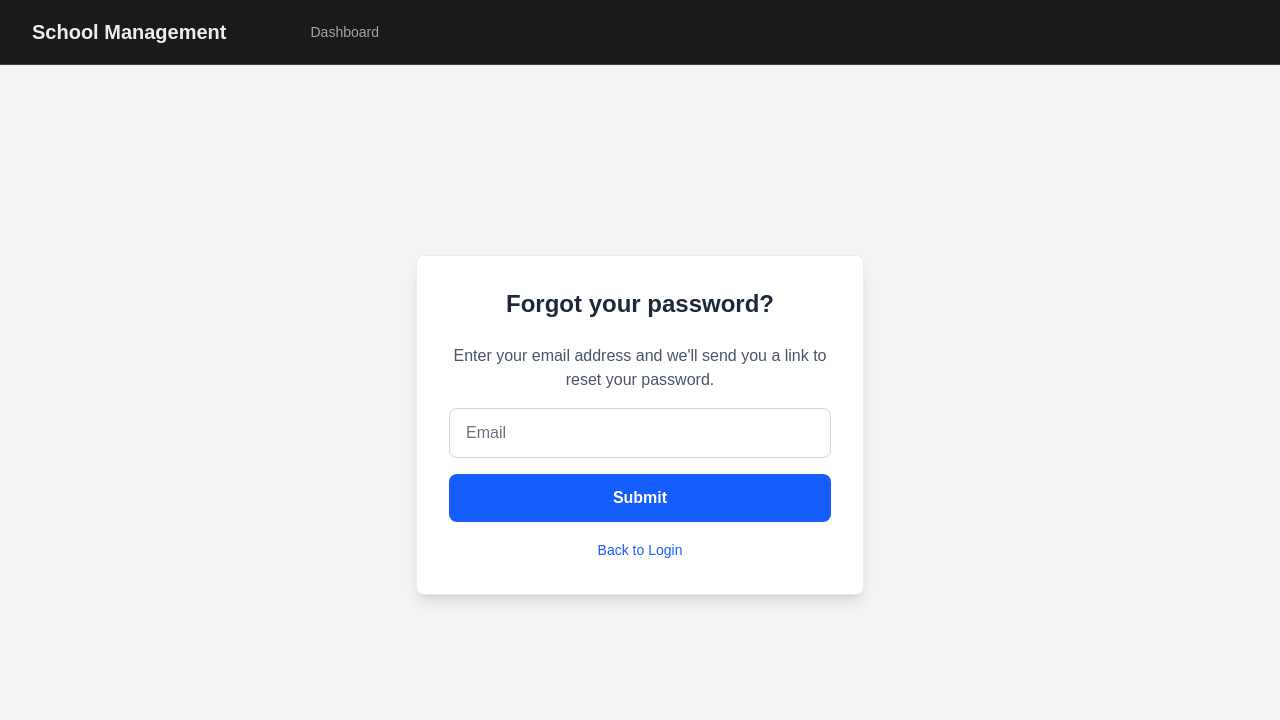
Test: Authentication E2E Tests › Forgot Password Page › should handle failed password reset request
Type "nonexistent@example.com" into the field with id "email" at (640, 433), box x1=449 y1=408 x2=831 y2=458
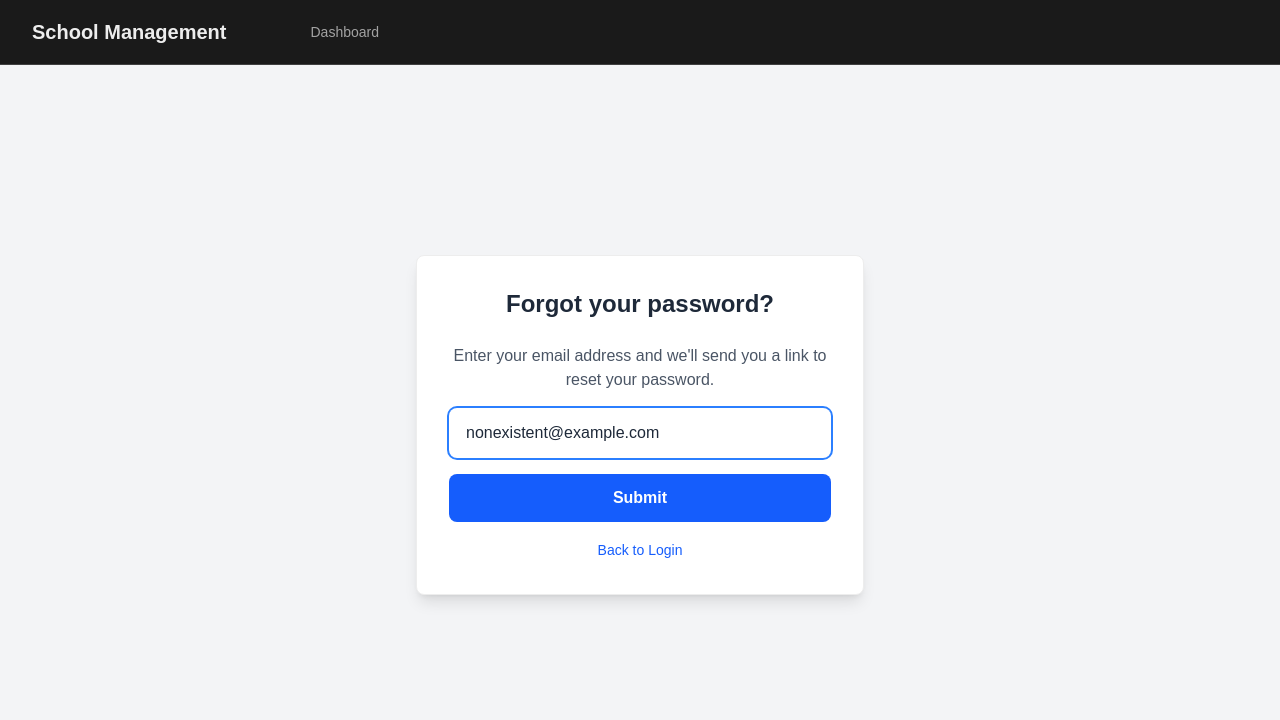
Click the submit button at (640, 498), box x1=449 y1=474 x2=831 y2=522
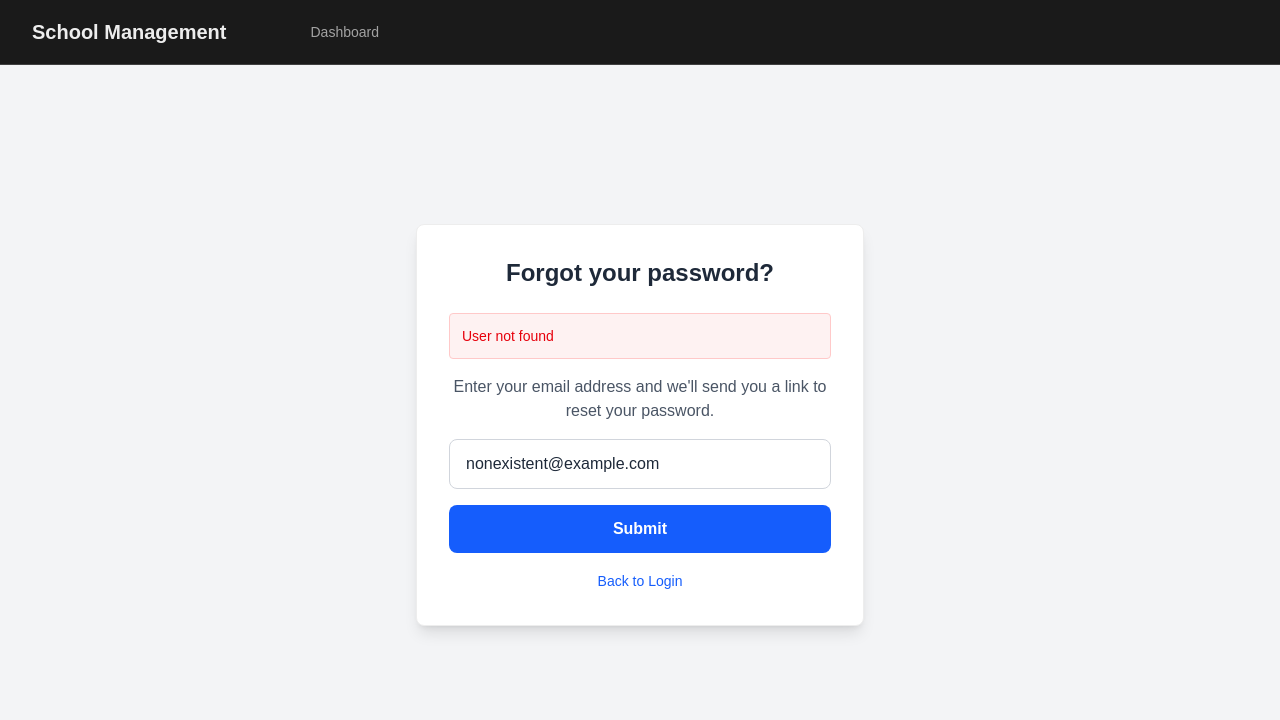
Now the text "User not found" is shown, box x1=449 y1=313 x2=831 y2=359
